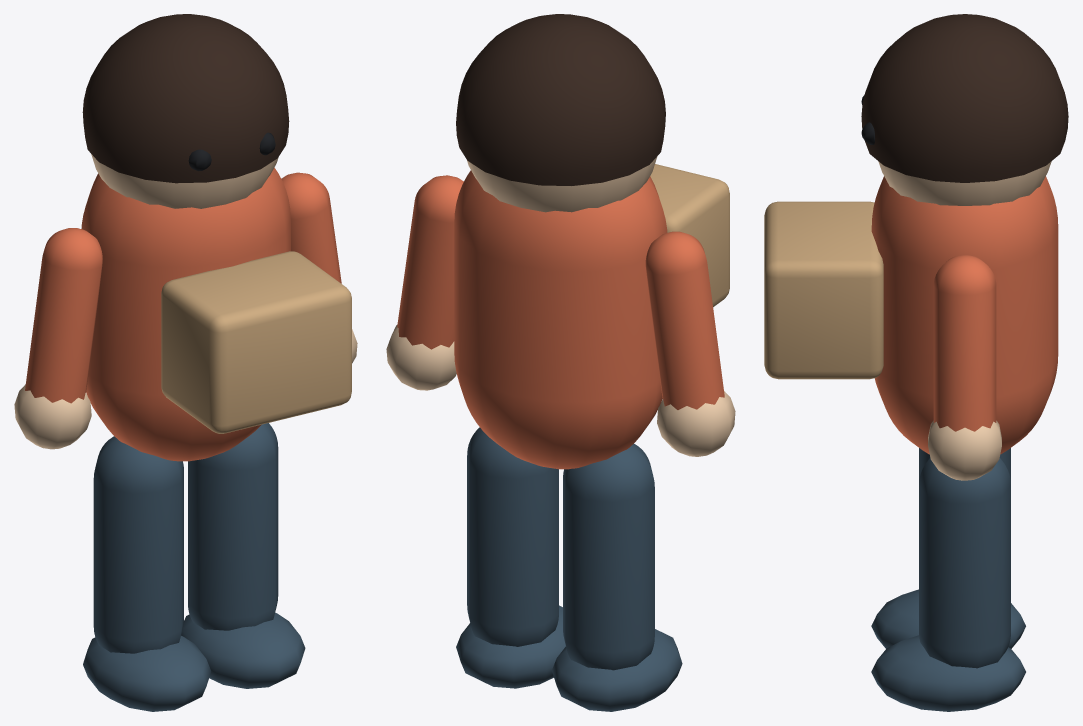
File: vecino.fbx
The picture shows the model from 3 angles, left to right: view 1: azimuth 30°, elevation 25°; view 2: azimuth 150°, elevation 25°; view 3: azimuth 270°, elevation 25°; orthographic projection.
Parts seen in each view (by area): view 1: shirt, parcel, hair, trousers, trousers_03, shirt_02, trousers_02, trousers_04, skin_03, shirt_03, skin; view 2: shirt, hair, trousers, trousers_03, shirt_02, shirt_03, parcel, trousers_02, trousers_04, skin_03, skin, skin_02; view 3: shirt, hair, parcel, trousers_03, shirt_03, trousers_04, skin_03, skin_02, trousers_02.
Boxes of the visible parts, bbox=[...] form: shirt: bbox=[81, 167, 290, 461]; parcel: bbox=[161, 251, 351, 433]; hair: bbox=[82, 14, 289, 183]; trousers: bbox=[93, 436, 183, 653]; trousers_03: bbox=[188, 423, 278, 630]; shirt_02: bbox=[25, 228, 102, 403]; trousers_02: bbox=[83, 635, 211, 711]; trousers_04: bbox=[181, 612, 305, 688]; skin_03: bbox=[91, 154, 278, 208]; shirt_03: bbox=[281, 172, 341, 283]; skin: bbox=[14, 384, 91, 449]; shirt: bbox=[454, 170, 667, 469]; hair: bbox=[456, 14, 665, 185]; trousers: bbox=[563, 444, 654, 670]; trousers_03: bbox=[467, 427, 558, 646]; shirt_02: bbox=[645, 231, 724, 409]; shirt_03: bbox=[397, 175, 463, 349]; parcel: bbox=[650, 164, 729, 307]; trousers_02: bbox=[552, 629, 682, 711]; trousers_04: bbox=[456, 605, 565, 688]; skin_03: bbox=[467, 156, 657, 212]; skin: bbox=[657, 391, 735, 456]; skin_02: bbox=[386, 325, 456, 390]; shirt: bbox=[871, 176, 1058, 454]; hair: bbox=[861, 14, 1068, 182]; parcel: bbox=[764, 201, 883, 379]; trousers_03: bbox=[919, 458, 1010, 668]; shirt_03: bbox=[933, 255, 996, 431]; trousers_04: bbox=[871, 635, 1025, 711]; skin_03: bbox=[878, 161, 1051, 205]; skin_02: bbox=[928, 420, 1001, 480]; trousers_02: bbox=[871, 589, 1025, 648].
Bounding box in the file's own units: 0.8385 × 1.58 × 0.6649.
